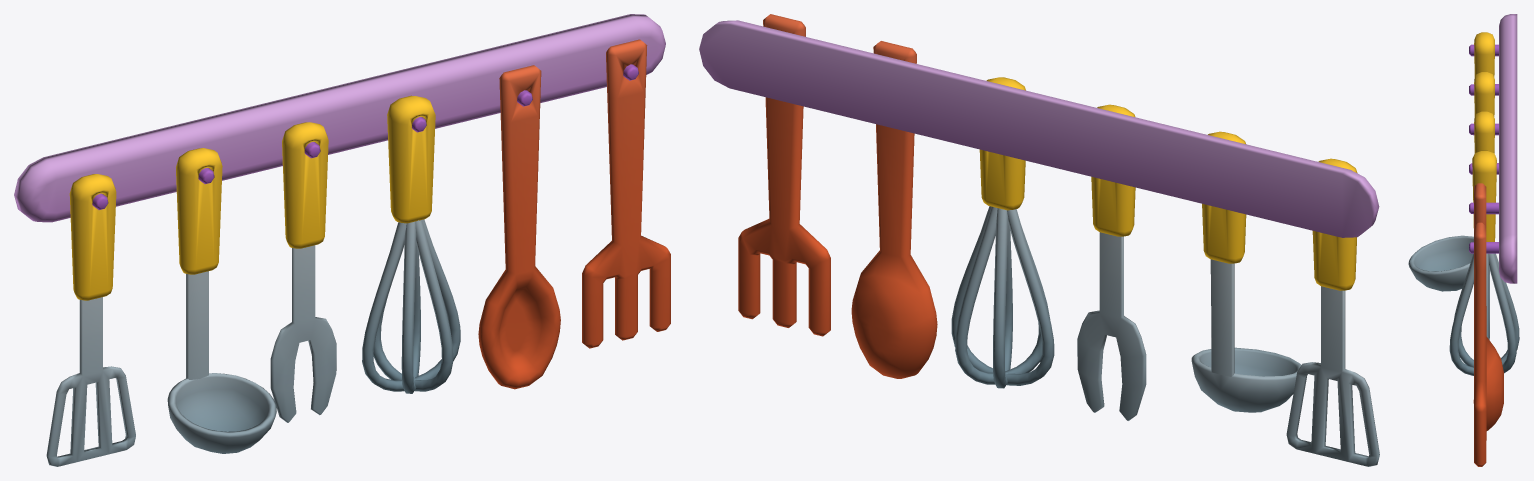
File: Utensils_001.fbx
3 renders of one model, left to right at view 1: azimuth 30°, elevation 25°; view 2: azimuth 150°, elevation 25°; view 3: azimuth 270°, elevation 25°, orthographic. The views are drawn at different scales.
Parts seen in each view (by area): view 1: Utensils_001; view 2: Utensils_001; view 3: Utensils_001.
Part boxes in pixels (bbox=[...]): Utensils_001: bbox=[14, 14, 670, 466]; Utensils_001: bbox=[699, 14, 1379, 466]; Utensils_001: bbox=[1408, 14, 1519, 466].
Bounding box in the file's own units: 0.7737 × 0.3686 × 0.1512.
